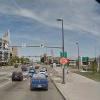Car: (7, 65, 46, 93)
